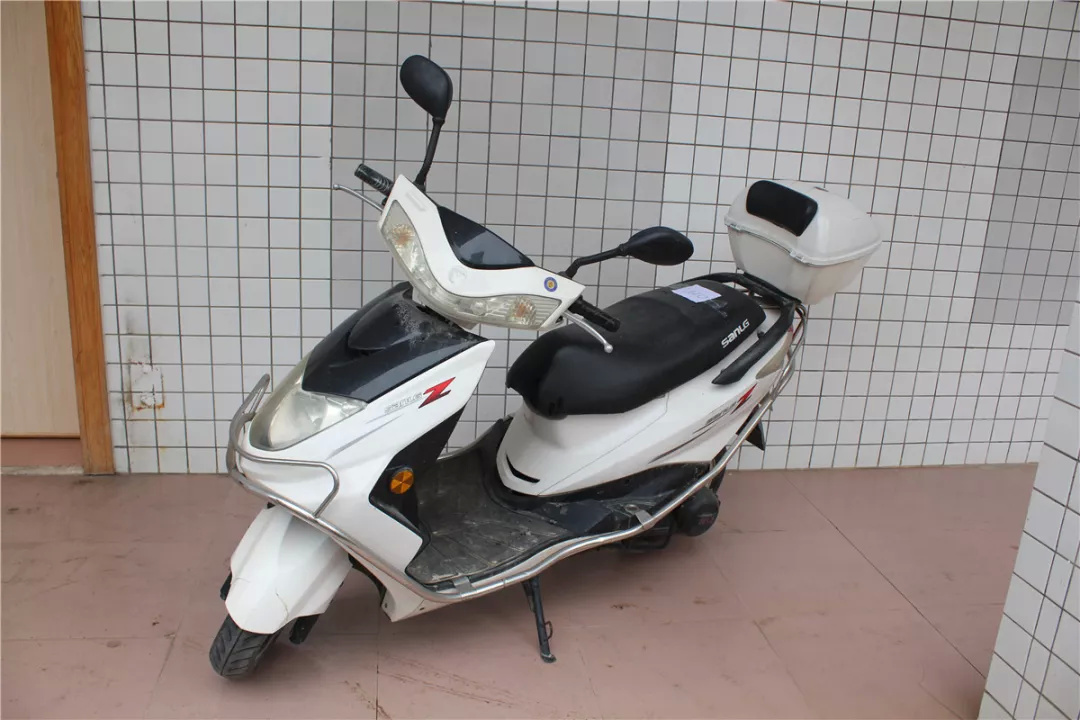电动车: (205, 50, 888, 689)
